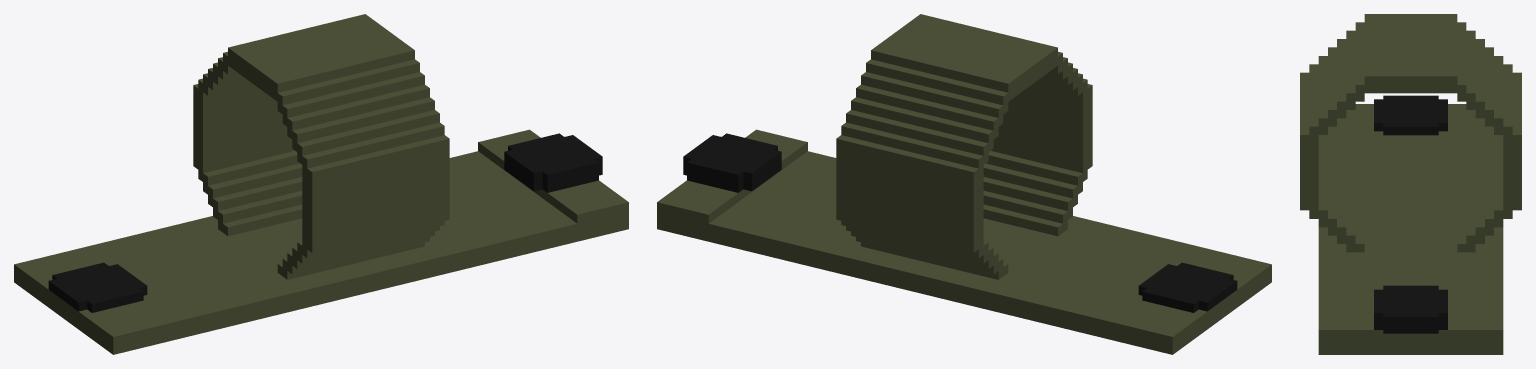
File: belt_loop_medium.glb
The picture shows the model from 3 angles, left to right: view 1: azimuth 30°, elevation 25°; view 2: azimuth 150°, elevation 25°; view 3: azimuth 270°, elevation 25°; orthographic projection. The views are drawn at different scales.
Parts seen in each view (by area): view 1: belt_loop_medium:compound; view 2: belt_loop_medium:compound; view 3: belt_loop_medium:compound.
Boxes of the visible parts, x1,y1,x2,y2 form: belt_loop_medium:compound: (14,14,628,354); belt_loop_medium:compound: (657,14,1271,354); belt_loop_medium:compound: (1300,14,1521,354).
Size of the model in its own units: 0.122 by 0.046 by 0.048.
